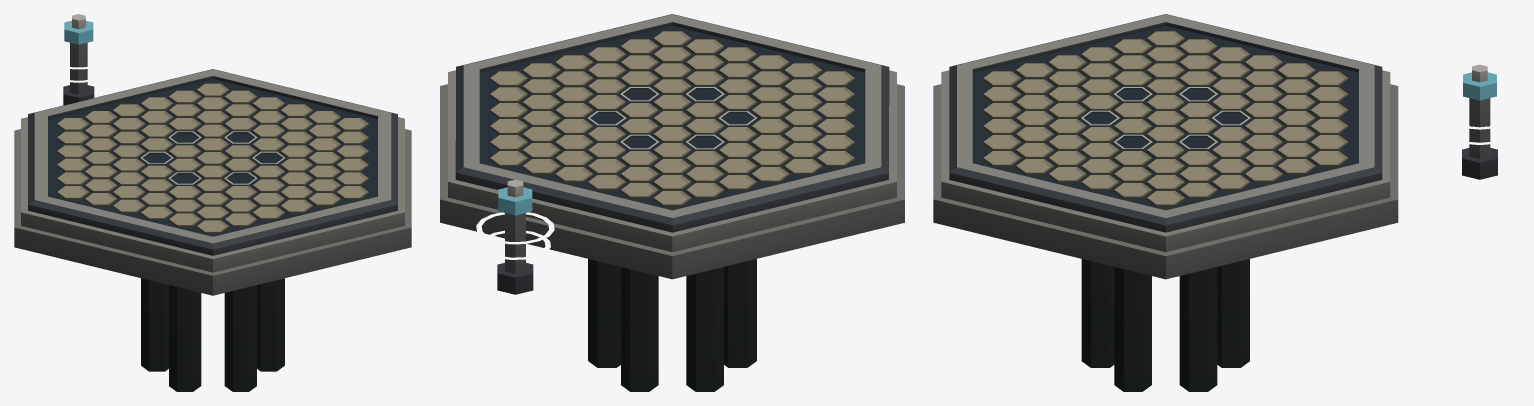
Rendered from slab-ballast.glb.
The picture shows the model from 3 angles, left to right: view 1: azimuth 30°, elevation 25°; view 2: azimuth 150°, elevation 25°; view 3: azimuth 270°, elevation 25°; orthographic projection. The views are drawn at different scales.
Parts seen in each view (by area): view 1: scene_ballast_slab, scene_ballast_pillar_3, scene_ballast_pillar_4, scene_ballast_pillar_2, scene_ballast_pillar_5, scene_ballast_prop_core, scene_ballast_corering_1, scene_ballast_corering_0, scene_ballast_cell_004, scene_ballast_cell_008, scene_ballast_cell_010, scene_ballast_cell_029 (+75 smaller); view 2: scene_ballast_slab, scene_ballast_pillar_2, scene_ballast_pillar_1, scene_ballast_pillar_0, scene_ballast_pillar_3, scene_ballast_prop_core, scene_ballast_corering_1, scene_ballast_corering_0, scene_ballast_cell_064, scene_ballast_cell_065, scene_ballast_cell_079, scene_ballast_cell_085 (+81 smaller); view 3: scene_ballast_slab, scene_ballast_pillar_0, scene_ballast_pillar_5, scene_ballast_pillar_4, scene_ballast_pillar_1, scene_ballast_prop_core, scene_ballast_corering_1.
Part boxes in pixels (<box>): scene_ballast_slab: <box>14,69,411,295</box>; scene_ballast_pillar_3: <box>169,285,201,391</box>; scene_ballast_pillar_4: <box>224,285,256,391</box>; scene_ballast_pillar_2: <box>141,278,168,371</box>; scene_ballast_pillar_5: <box>257,278,284,371</box>; scene_ballast_prop_core: <box>63,14,94,105</box>; scene_ballast_corering_1: <box>45,42,112,69</box>; scene_ballast_corering_0: <box>48,57,109,82</box>; scene_ballast_cell_004: <box>57,131,89,144</box>; scene_ballast_cell_008: <box>85,165,117,178</box>; scene_ballast_cell_010: <box>85,138,117,151</box>; scene_ballast_cell_029: <box>141,97,173,110</box>; scene_ballast_slab: <box>440,14,904,279</box>; scene_ballast_pillar_2: <box>686,267,723,391</box>; scene_ballast_pillar_1: <box>621,267,658,391</box>; scene_ballast_pillar_0: <box>588,259,620,367</box>; scene_ballast_pillar_3: <box>724,259,756,367</box>; scene_ballast_prop_core: <box>497,179,533,294</box>; scene_ballast_corering_1: <box>476,212,554,244</box>; scene_ballast_corering_0: <box>480,230,550,259</box>; scene_ballast_cell_064: <box>653,79,691,94</box>; scene_ballast_cell_065: <box>653,63,691,78</box>; scene_ballast_cell_079: <box>653,47,691,62</box>; scene_ballast_cell_085: <box>653,31,691,46</box>; scene_ballast_slab: <box>933,14,1398,279</box>; scene_ballast_pillar_0: <box>1179,267,1217,391</box>; scene_ballast_pillar_5: <box>1114,267,1151,391</box>; scene_ballast_pillar_4: <box>1081,259,1114,367</box>; scene_ballast_pillar_1: <box>1217,259,1249,367</box>; scene_ballast_prop_core: <box>1462,64,1497,179</box>; scene_ballast_corering_1: <box>1440,97,1519,129</box>.
Bounding box in the file's own units: 14.21 × 8.55 × 15.52.
